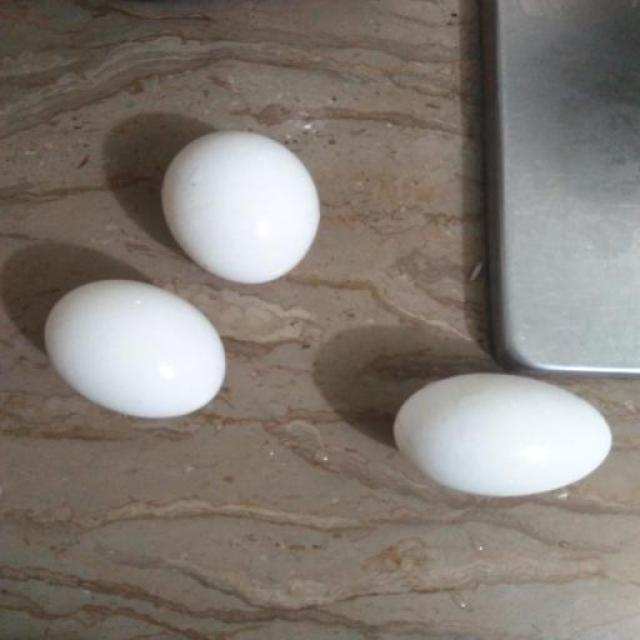telur: (395, 372, 613, 498), (46, 279, 227, 419), (165, 132, 321, 286)
